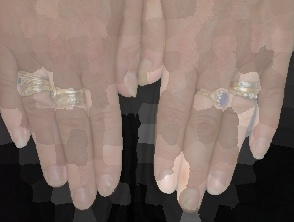Nail_psoriasis: (170, 178, 210, 219), (67, 178, 101, 214), (133, 53, 161, 92), (246, 130, 276, 164), (6, 118, 36, 151), (205, 164, 234, 198), (93, 167, 121, 201), (118, 62, 142, 101), (154, 163, 181, 195), (41, 160, 69, 189)
